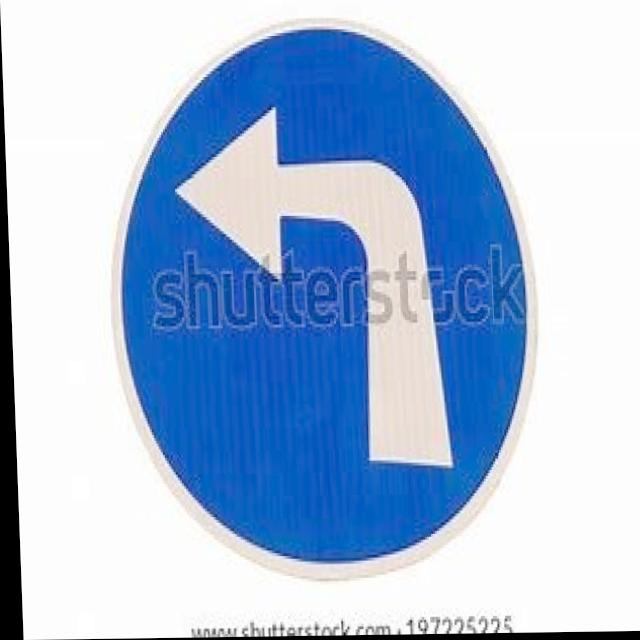COMPULSARY_TURN_LEFT_AHEAD: (97, 17, 548, 586)
